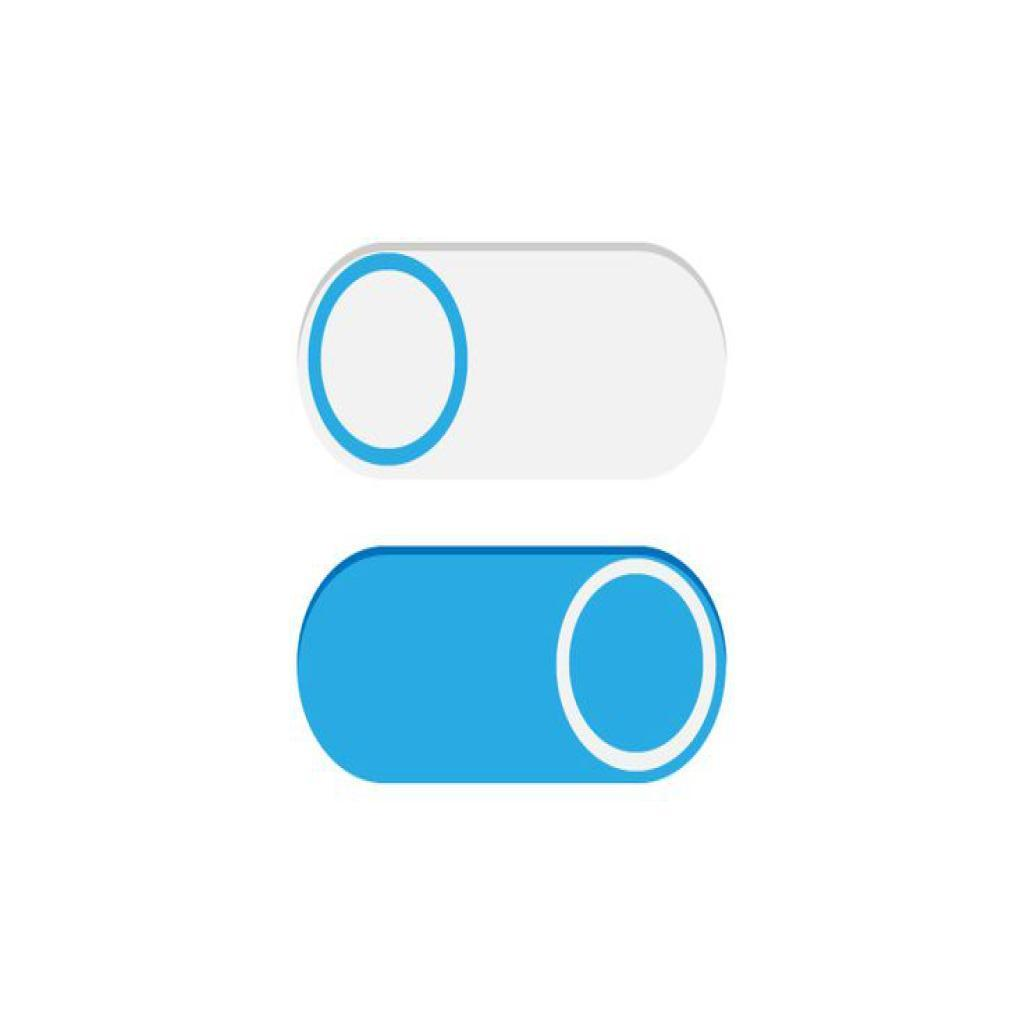switch: (292, 242, 735, 485), (290, 545, 729, 788)
